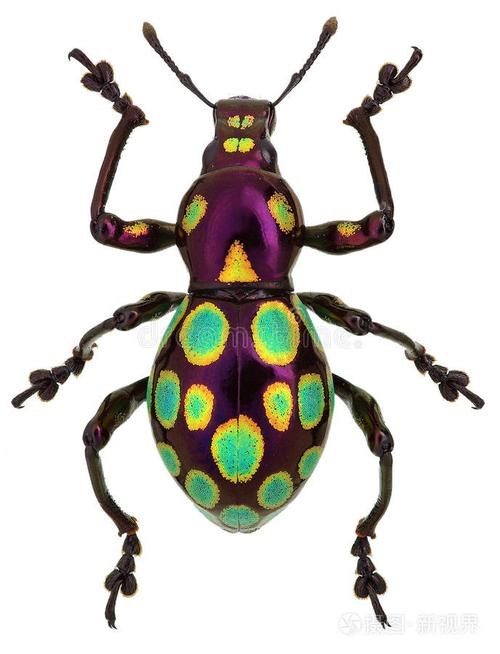Curculionidae: (10, 16, 485, 629)
